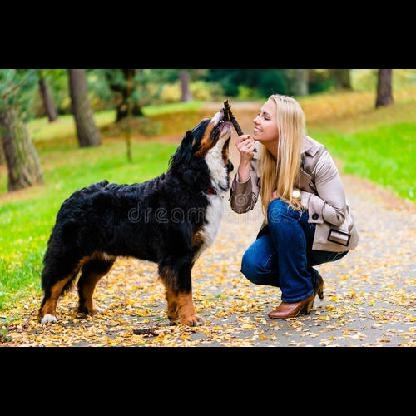人: (230, 94, 358, 319)
狗: (38, 106, 233, 326)
